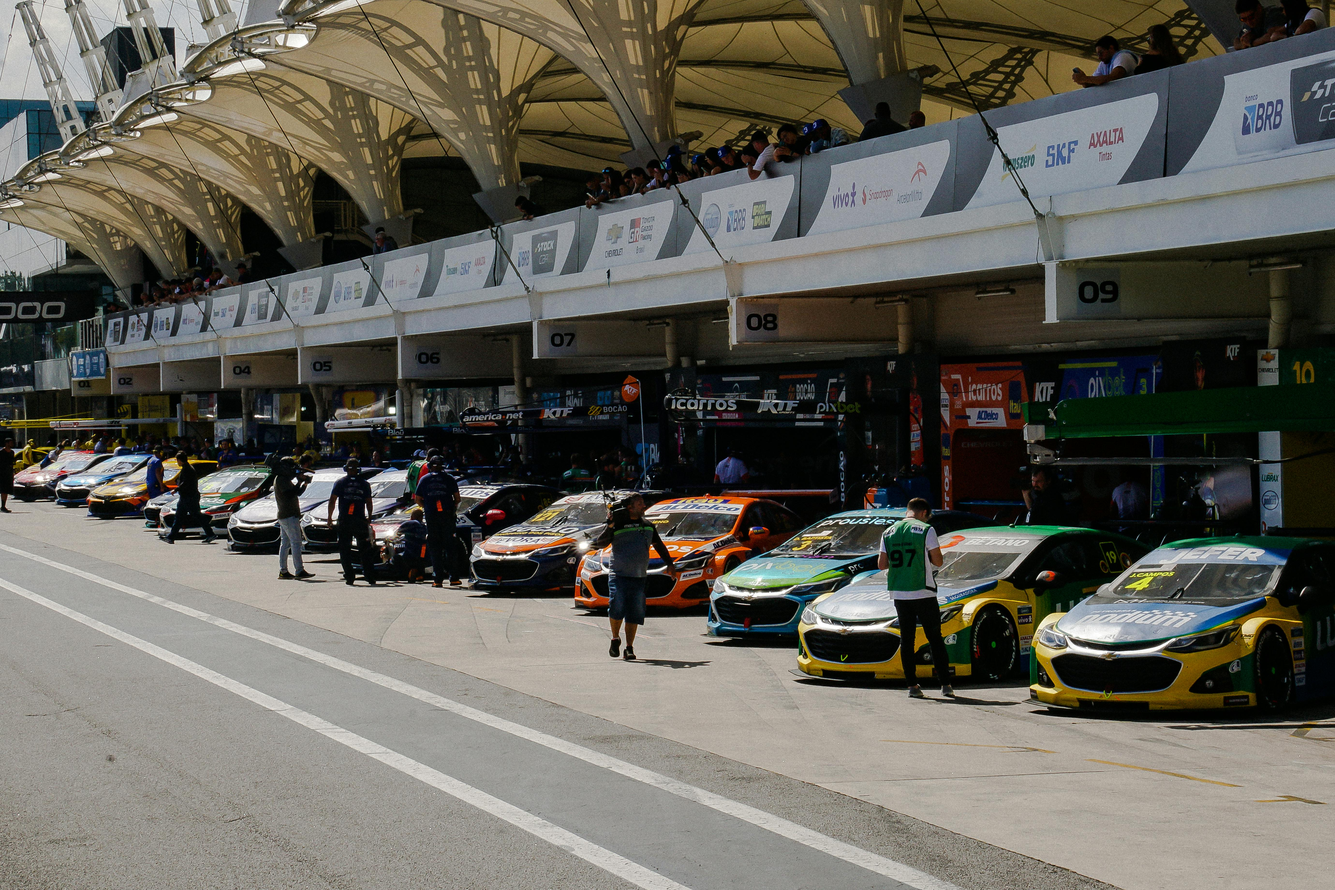other: (1028, 529, 1335, 725), (812, 524, 1164, 684), (705, 494, 998, 634), (579, 499, 807, 621), (348, 485, 545, 598), (462, 494, 644, 596), (225, 460, 386, 557), (305, 471, 487, 548), (14, 446, 121, 506), (91, 458, 200, 512), (60, 458, 162, 509)
